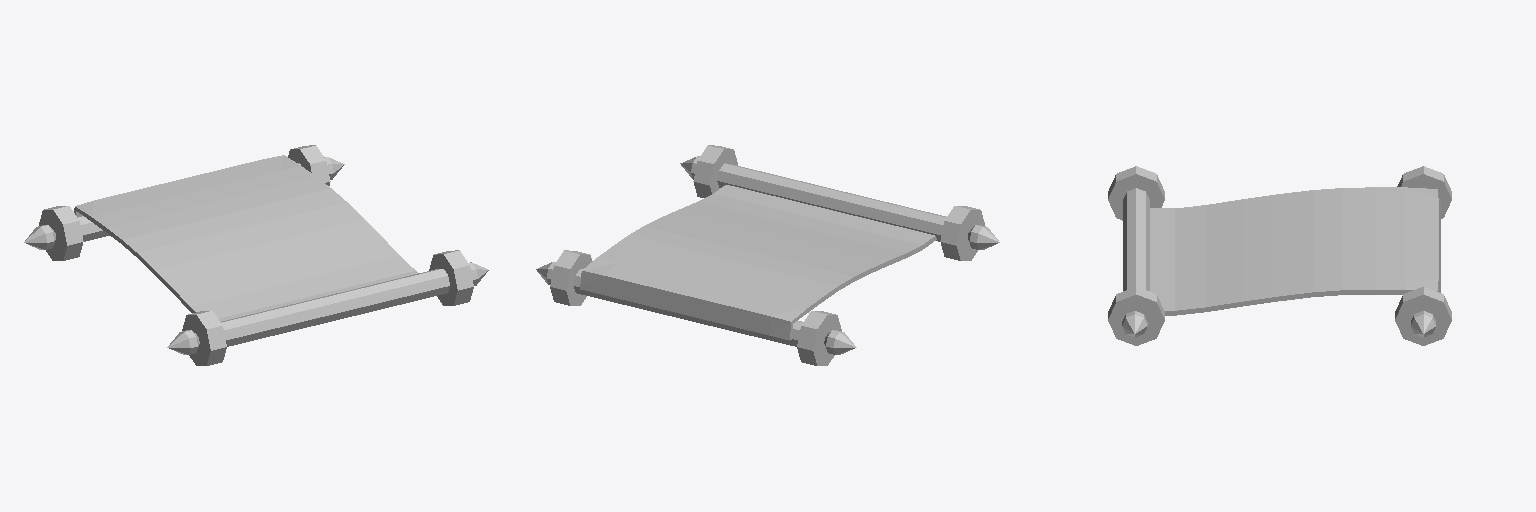
The model's file is scroll_origin_point.obj.
The picture shows the model from 3 angles: view 1: azimuth 30°, elevation 25°; view 2: azimuth 150°, elevation 25°; view 3: azimuth 270°, elevation 25°; orthographic projection.
Visible parts, largest first — view 1: scroll pPlane1, scroll pCylinder9, scroll pCylinder6, scroll pCylinder11, pCylinder12 scroll, scroll pCylinder5, scroll pCylinder7, scroll pCylinder10; view 2: scroll pPlane1, scroll pCylinder9, scroll pCylinder11, scroll pCylinder6, scroll pCylinder5, pCylinder12 scroll, scroll pCylinder4, scroll pCylinder7, scroll pCylinder10; view 3: scroll pPlane1, scroll pCylinder9, scroll pCylinder5, pCylinder12 scroll, scroll pCylinder11, scroll pCylinder6.
Boxes of the visible parts, x1,y1,x2,y2 form: scroll pPlane1: [74, 155, 417, 321]; scroll pCylinder9: [221, 269, 449, 346]; scroll pCylinder6: [39, 206, 83, 260]; scroll pCylinder11: [182, 311, 226, 365]; pCylinder12 scroll: [429, 250, 473, 305]; scroll pCylinder5: [288, 145, 330, 185]; scroll pCylinder7: [24, 225, 55, 249]; scroll pCylinder10: [167, 330, 199, 354]; scroll pPlane1: [580, 185, 936, 340]; scroll pCylinder9: [717, 163, 946, 241]; scroll pCylinder11: [940, 206, 984, 260]; scroll pCylinder6: [797, 311, 841, 365]; scroll pCylinder5: [550, 250, 592, 305]; pCylinder12 scroll: [693, 145, 737, 197]; scroll pCylinder4: [574, 269, 802, 346]; scroll pCylinder7: [824, 330, 856, 354]; scroll pCylinder10: [968, 225, 999, 249]; scroll pPlane1: [1150, 187, 1440, 315]; scroll pCylinder9: [1123, 188, 1149, 290]; scroll pCylinder5: [1395, 287, 1451, 345]; pCylinder12 scroll: [1108, 287, 1164, 345]; scroll pCylinder11: [1108, 166, 1164, 220]; scroll pCylinder6: [1397, 166, 1451, 218].
Size of the model in its own units: 1.1 by 0.17 by 1.02.